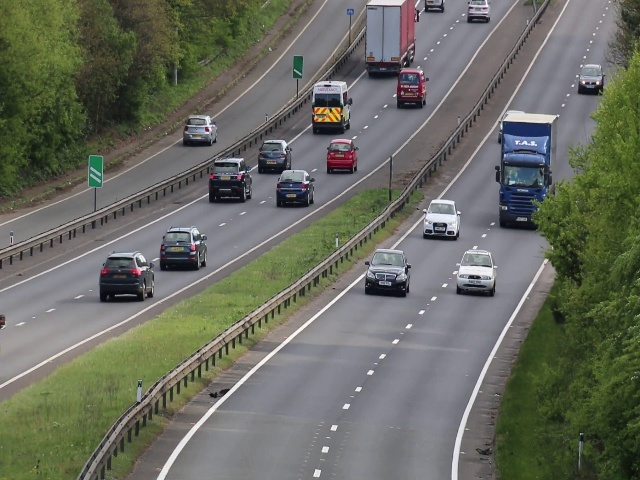car: (499, 153, 548, 233), (97, 250, 154, 303), (312, 77, 353, 135), (158, 227, 209, 270), (454, 247, 496, 297), (365, 250, 410, 296), (209, 156, 252, 204), (420, 198, 465, 240), (275, 170, 317, 209), (324, 137, 360, 177), (255, 138, 293, 172), (181, 111, 218, 145), (398, 69, 428, 107), (579, 60, 603, 96), (462, 1, 495, 24)
